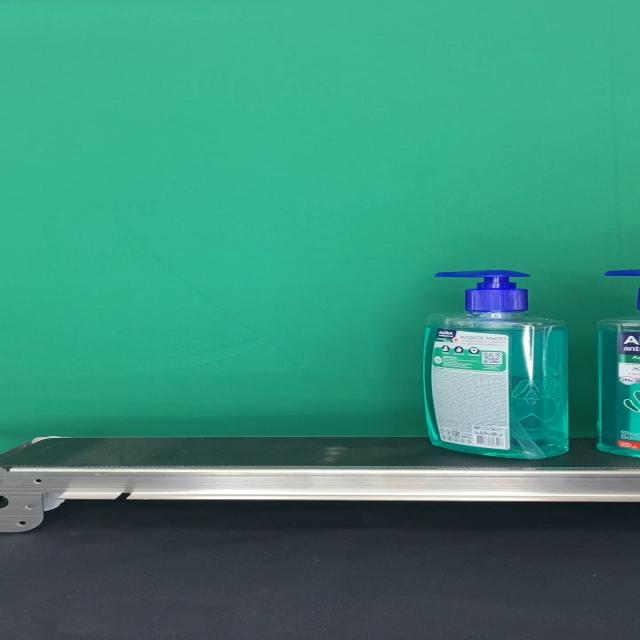Bottle: (423, 270, 569, 459)
Cap: (435, 270, 531, 312)
